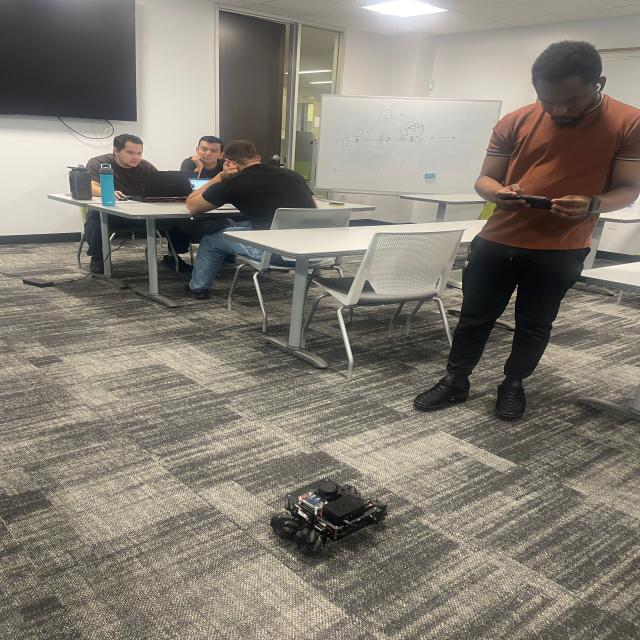ArduinoCar3: (265, 475, 391, 557)
